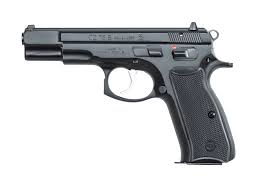Arma Real: (21, 22, 237, 165)
